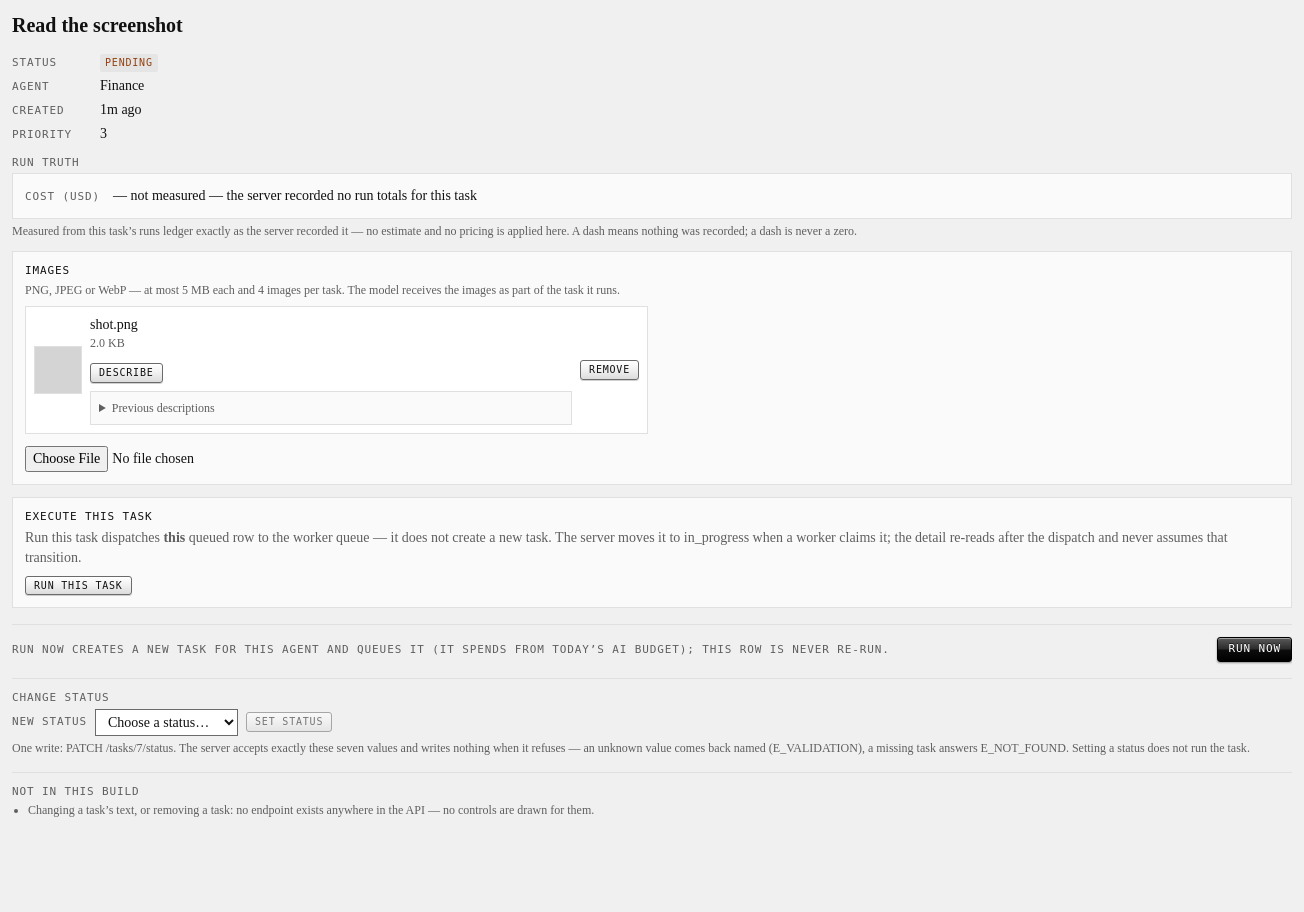
Test: task images — the detail surface › removes an image by id and says so
This screenshot has width=1304, height=912.
Click the button with aria-label "Remove shot.png". click: (610, 370)
box: [580,360,639,380]
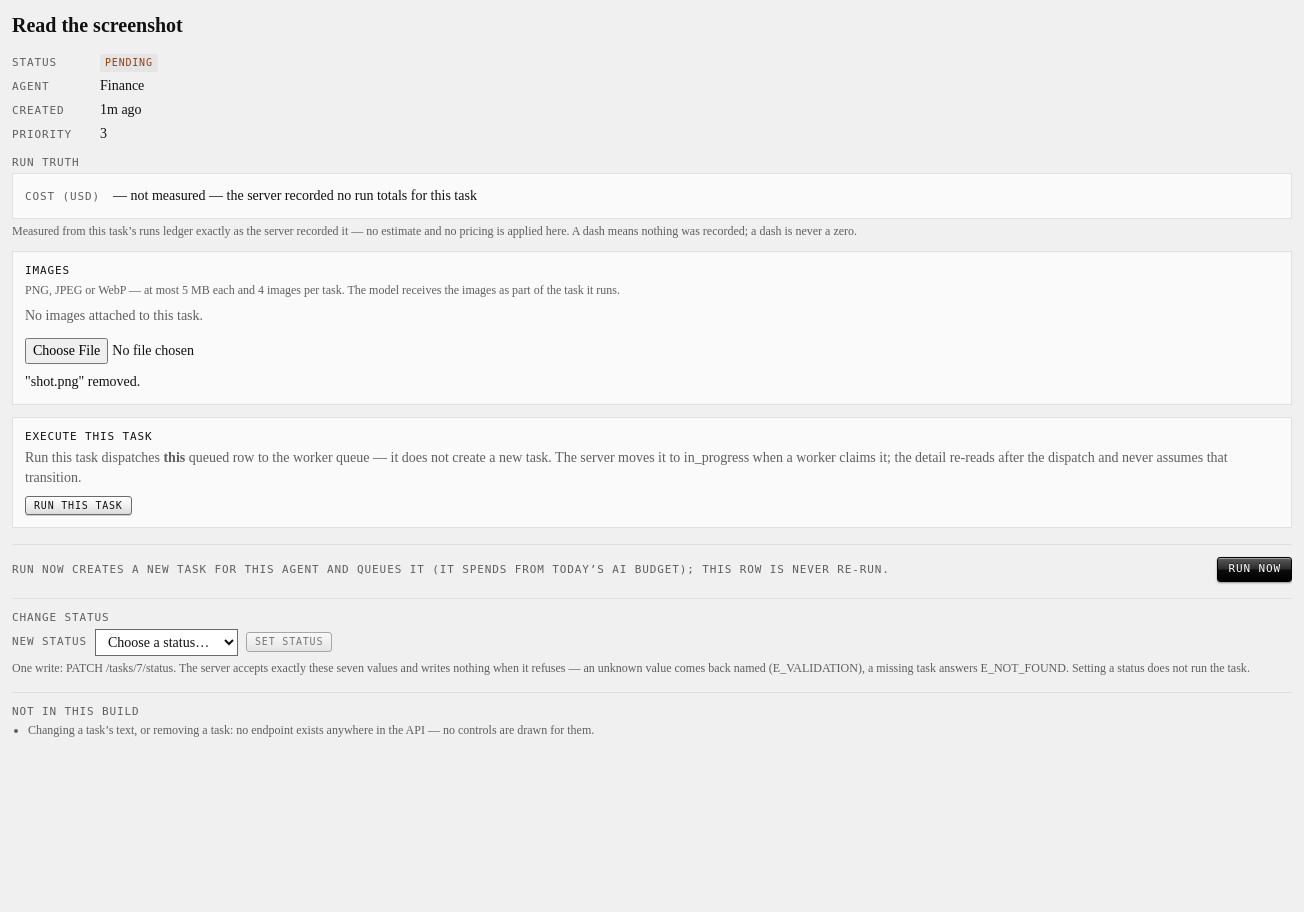
Result: the text "No images attached to this task." is shown at [25,308,203,323]
Result: the message reads "\"shot.png\" removed." at [25,374,140,389]
